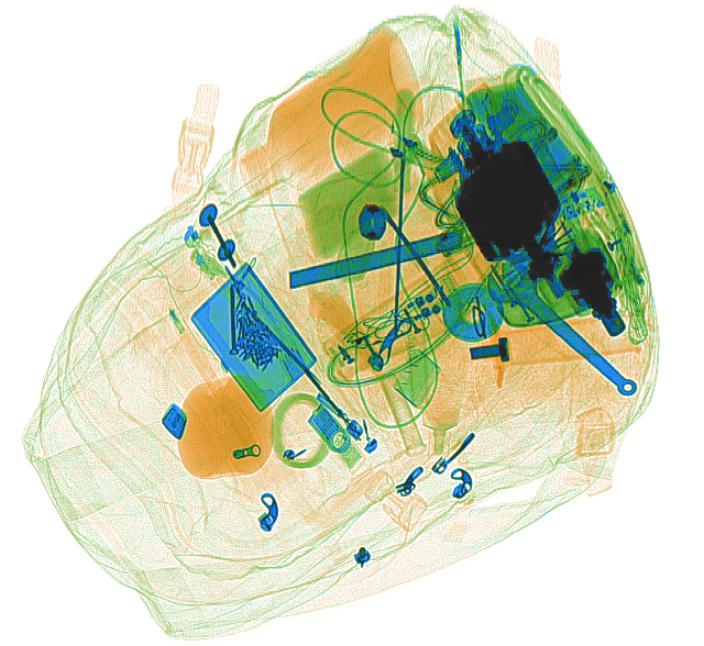USBFlashDisk: (306, 403, 364, 470)
